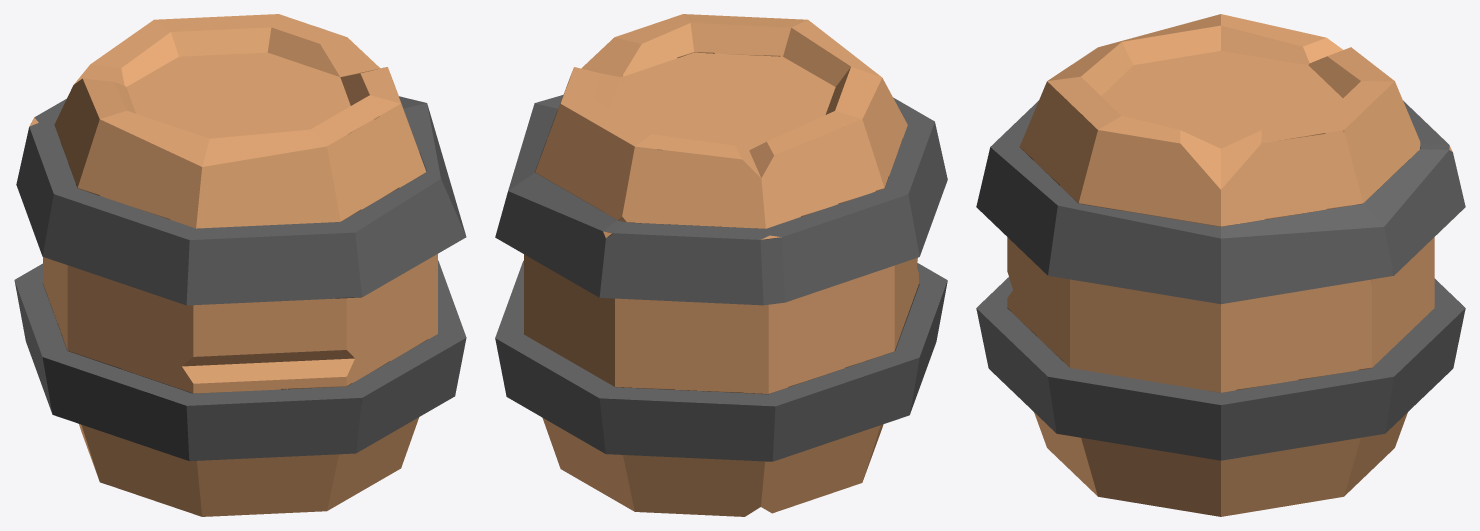
The model's file is Barrel.glb.
3 renders of one model, left to right at view 1: azimuth 30°, elevation 25°; view 2: azimuth 150°, elevation 25°; view 3: azimuth 270°, elevation 25°, orthographic.
Parts seen in each view (by area): view 1: Cylinder; view 2: Cylinder; view 3: Cylinder.
Part boxes in pixels (x1,y1,x2,y2): Cylinder: [14, 14, 466, 516]; Cylinder: [495, 14, 947, 516]; Cylinder: [976, 14, 1465, 516].
Bounding box in the file's own units: 1.35 × 1.2 × 1.44.
2 materials, 2 textured.
